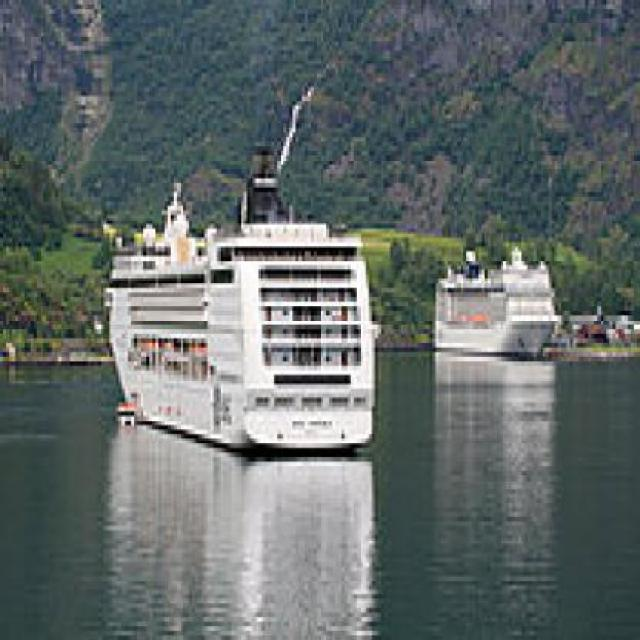cruise: (93, 129, 391, 463), (428, 234, 565, 371)
